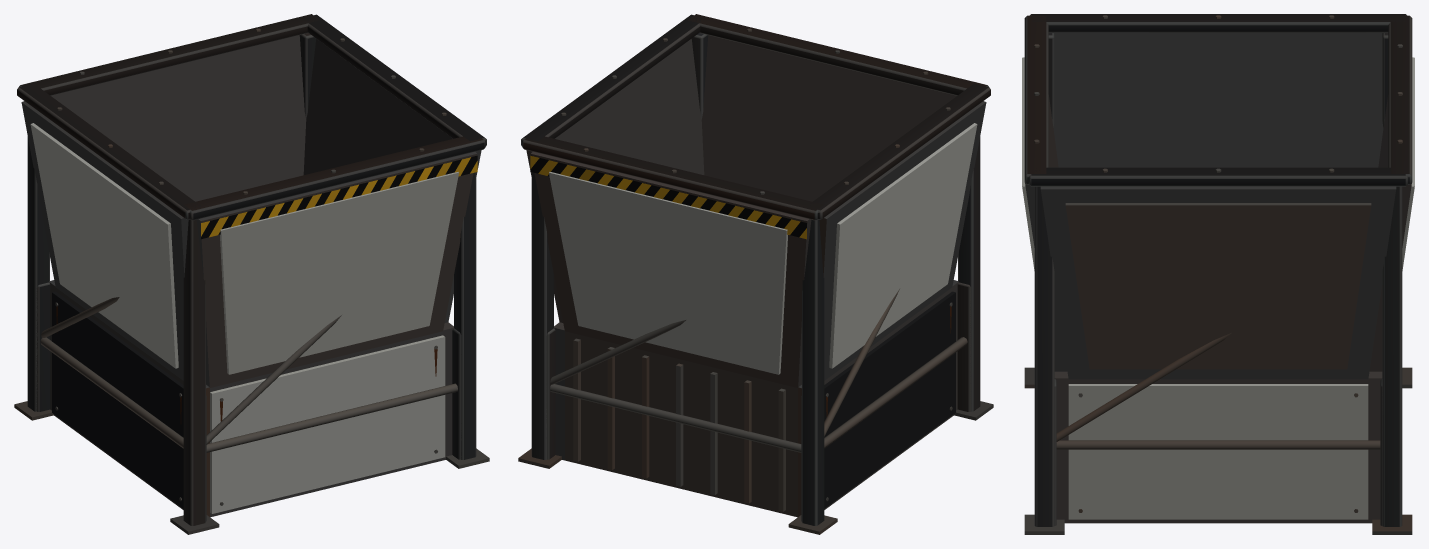
File: chute_hopper_up.glb
3 views of the same model, side by side, from view 1: azimuth 30°, elevation 25°; view 2: azimuth 150°, elevation 25°; view 3: azimuth 270°, elevation 25° (orthographic). The views are drawn at different scales.
Parts seen in each view (by area): view 1: Frame; view 2: Frame; view 3: Frame.
Boxes of the visible parts, <box> form: Frame: <box>14,14,489,534</box>; Frame: <box>518,14,993,534</box>; Frame: <box>1022,14,1414,534</box>.
Bounding box in the file's own units: 1.97 × 1.99 × 1.97.
